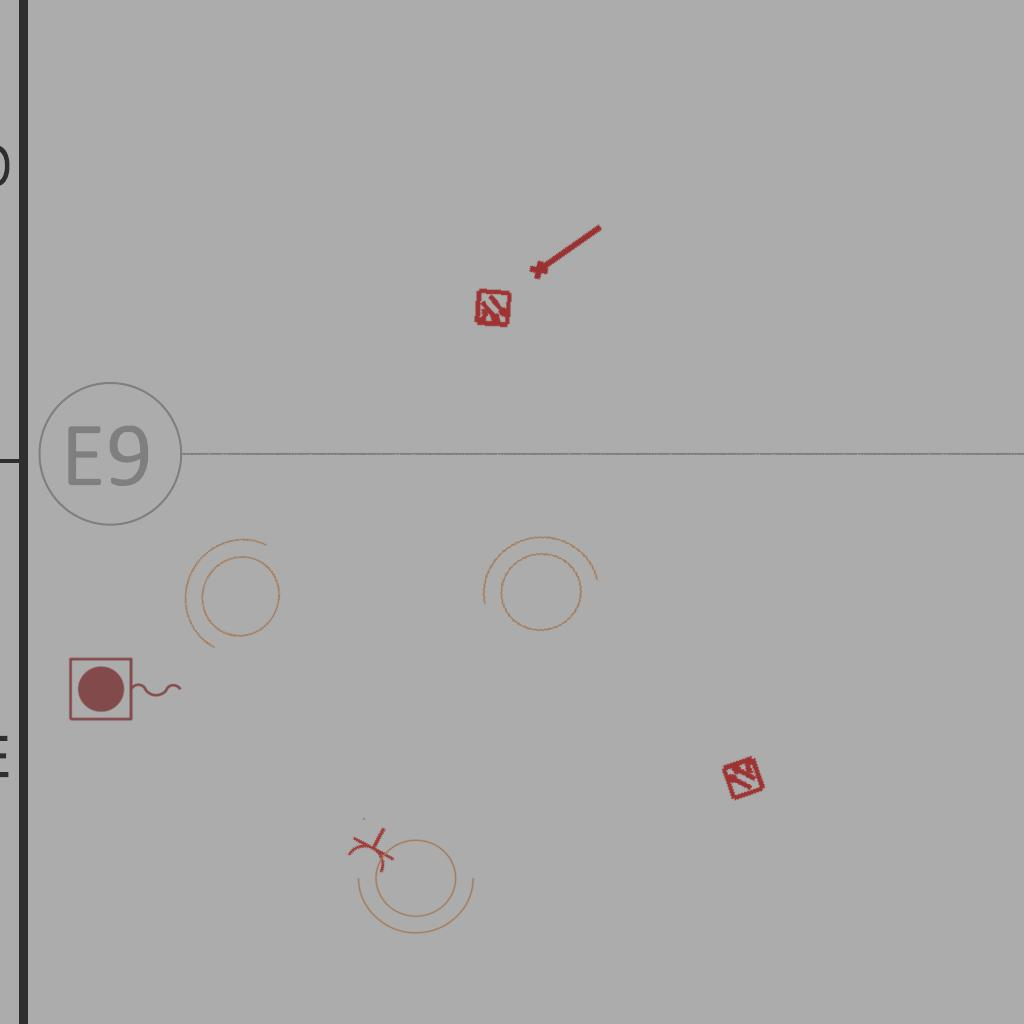ASR_Ansaugoeffnung: (523, 214, 609, 285)
OT_Multisensormelder_(Kombination_RMO_WMD): (707, 741, 779, 813), (463, 279, 523, 339)
Scheinwerfer_fuer_Alarmbeleuchtung: (155, 512, 315, 682), (460, 519, 614, 657), (353, 827, 485, 939)
Schukosteckdose_einfach: (341, 815, 406, 877)
Zugtaster: (65, 654, 187, 726)
